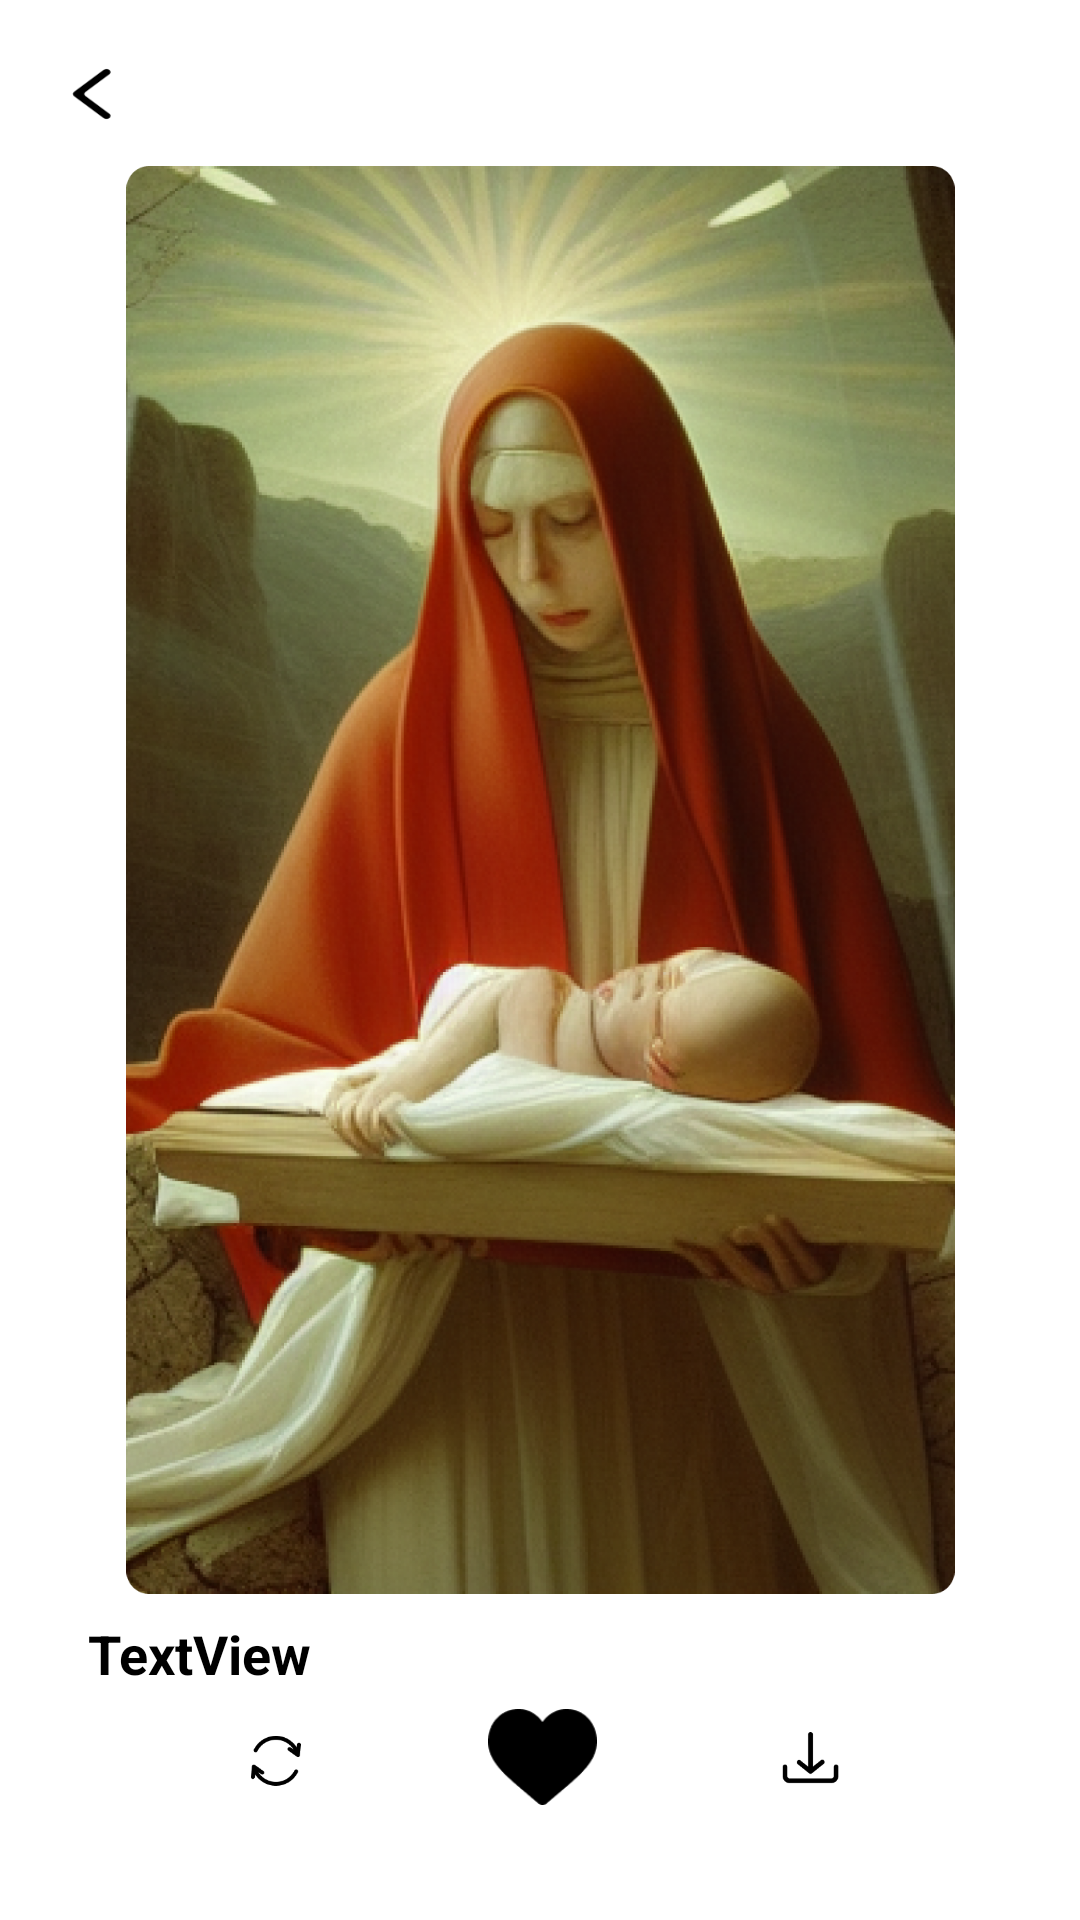

Icons on this 1080px×1920px Android screen, each with its box as (x1, y1, x2, y2):
favorite state: (488, 1709, 597, 1805)
recreate: (251, 1736, 301, 1786)
save: (782, 1732, 839, 1783)
